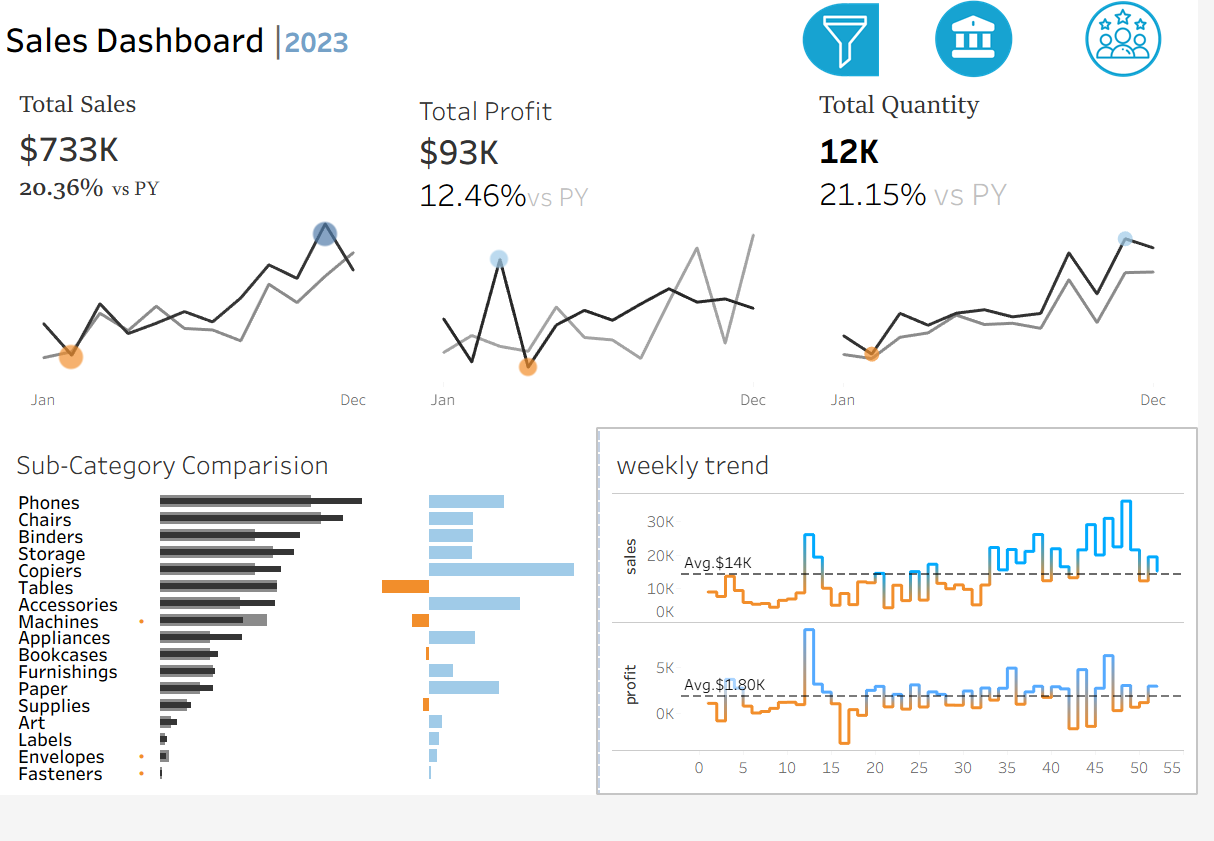

This screenshot's page, from the dashboard's own definition file:
{"tool":"tableau","page":{"name":"sales Dashboard","canvas":[1200,800],"ordinal":1},"visuals":[{"type":"text","box":[0,0,900,87]},{"type":"dashboard-object","box":[900,0,150,87]},{"type":"dashboard-object","box":[1050,0,150,87]},{"type":"dashboard-object","box":[799,6,86,78]},{"type":"blank","box":[967,7,228,72]},{"type":"parameter","param":"[Parameters].[Parameter 1]","box":[967,79,228,56]},{"type":"worksheet","title":"kpi  sales","mark":"Automatic","rows":["Calculation_2044879971794953"],"cols":["Order Date"],"box":[0,87,400,347]},{"type":"worksheet","title":"kpi profit","mark":"Automatic","rows":["Calculation_2044879998693391"],"cols":["Order Date"],"box":[400,87,400,347]},{"type":"worksheet","title":"kpi quantity","mark":"Line","rows":["Calculation_2044880291721240"],"cols":["Order Date"],"box":[800,87,400,347]},{"type":"blank","box":[967,135,228,78]},{"type":"text","box":[967,213,228,40]},{"type":"filter","title":"kpi  sales","param":"[federated.1byzq540m0jxd910fztev05yb3q6].[none:Category:nk]","box":[967,253,228,61]},{"type":"filter","title":"kpi  sales","param":"[federated.1byzq540m0jxd910fztev05yb3q6].[none:Sub-Category:nk]","box":[967,314,228,61]},{"type":"blank","box":[967,375,228,94]},{"type":"worksheet","title":"sub category ","mark":"Bar","rows":["Sub-Category","Calculation_2044880301273117"],"cols":["Calculation_2044879640371203","Calculation_2044879639826434","Calculation_2044879994662924"],"box":[0,434,600,366]},{"type":"worksheet","title":"weekly trend","mark":"Automatic","rows":["Calculation_2044879639826434","Calculation_2044879994662924"],"cols":["Order Date"],"box":[600,434,600,366]},{"type":"text","box":[967,469,228,40]},{"type":"filter","title":"kpi  sales","param":"[federated.1byzq540m0jxd910fztev05yb3q6].[none:State:nk]","box":[967,509,228,61]},{"type":"filter","title":"kpi  sales","param":"[federated.1byzq540m0jxd910fztev05yb3q6].[none:Region:nk]","box":[967,570,228,61]},{"type":"filter","title":"kpi  sales","param":"[federated.1byzq540m0jxd910fztev05yb3q6].[none:City:nk]","box":[967,631,228,61]}]}

Visuals, with their boxes on the page's 1200x800 design canvas (x1, y1, x2, y2). These are canvas units, not pixel positions in the 1214x841 screenshot, which may show the page scaled, cropped or inside an application window:
text: [0, 0, 900, 87]
dashboard-object: [900, 0, 1050, 87]
dashboard-object: [1050, 0, 1200, 87]
dashboard-object: [799, 6, 885, 84]
blank: [967, 7, 1195, 79]
parameter: [967, 79, 1195, 135]
"kpi  sales" worksheet: [0, 87, 400, 434]
"kpi profit" worksheet: [400, 87, 800, 434]
"kpi quantity" worksheet (Line marks): [800, 87, 1200, 434]
blank: [967, 135, 1195, 213]
text: [967, 213, 1195, 253]
"kpi  sales" filter: [967, 253, 1195, 314]
"kpi  sales" filter: [967, 314, 1195, 375]
blank: [967, 375, 1195, 469]
"sub category " worksheet (Bar marks): [0, 434, 600, 800]
"weekly trend" worksheet: [600, 434, 1200, 800]
text: [967, 469, 1195, 509]
"kpi  sales" filter: [967, 509, 1195, 570]
"kpi  sales" filter: [967, 570, 1195, 631]
"kpi  sales" filter: [967, 631, 1195, 692]
